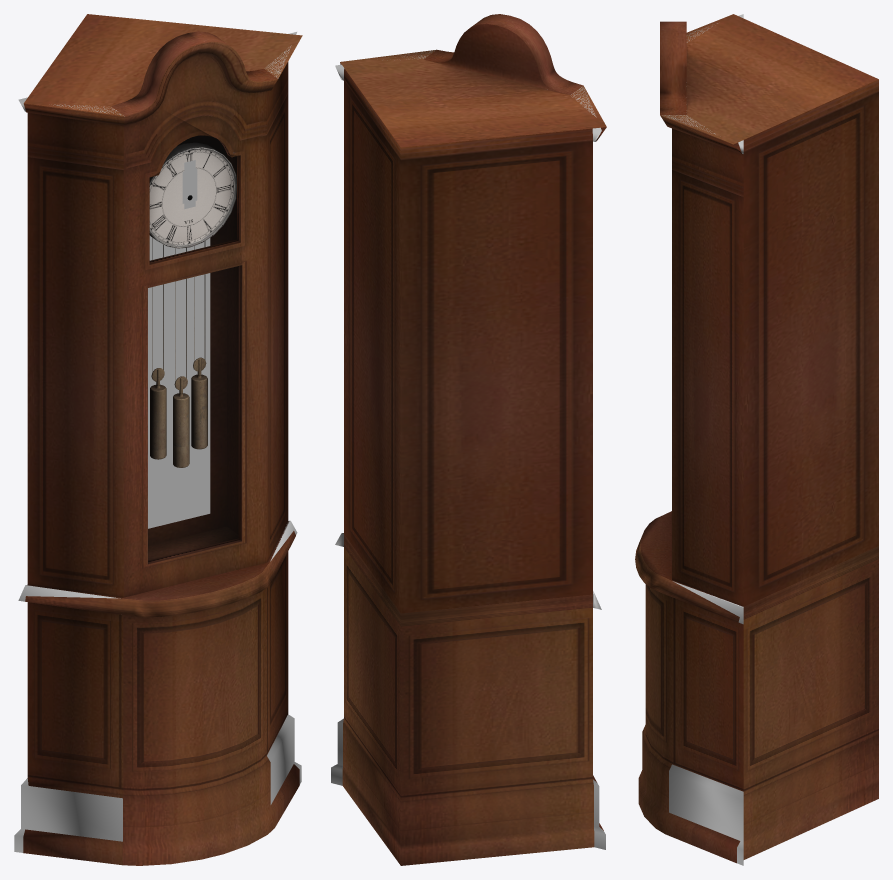
File: standuhr_02.fbx
3 views of the same model, side by side, from view 1: azimuth 30°, elevation 25°; view 2: azimuth 150°, elevation 25°; view 3: azimuth 270°, elevation 25° (orthographic). The views are drawn at different scales.
Parts seen in each view (by area): view 1: standuhr_02_1, pendel, standuhr_02_2; view 2: standuhr_02_1, standuhr_02_2; view 3: standuhr_02_1, standuhr_02_2.
Boxes of the visible parts, x1,y1,x2,y2 form: standuhr_02_1: [23, 14, 302, 865]; pendel: [148, 235, 210, 528]; standuhr_02_2: [14, 32, 301, 852]; standuhr_02_1: [340, 14, 606, 865]; standuhr_02_2: [331, 50, 605, 849]; standuhr_02_1: [635, 14, 878, 863]; standuhr_02_2: [662, 14, 743, 865].
Bounding box in the file's own units: 77.03 × 206 × 59.08.
